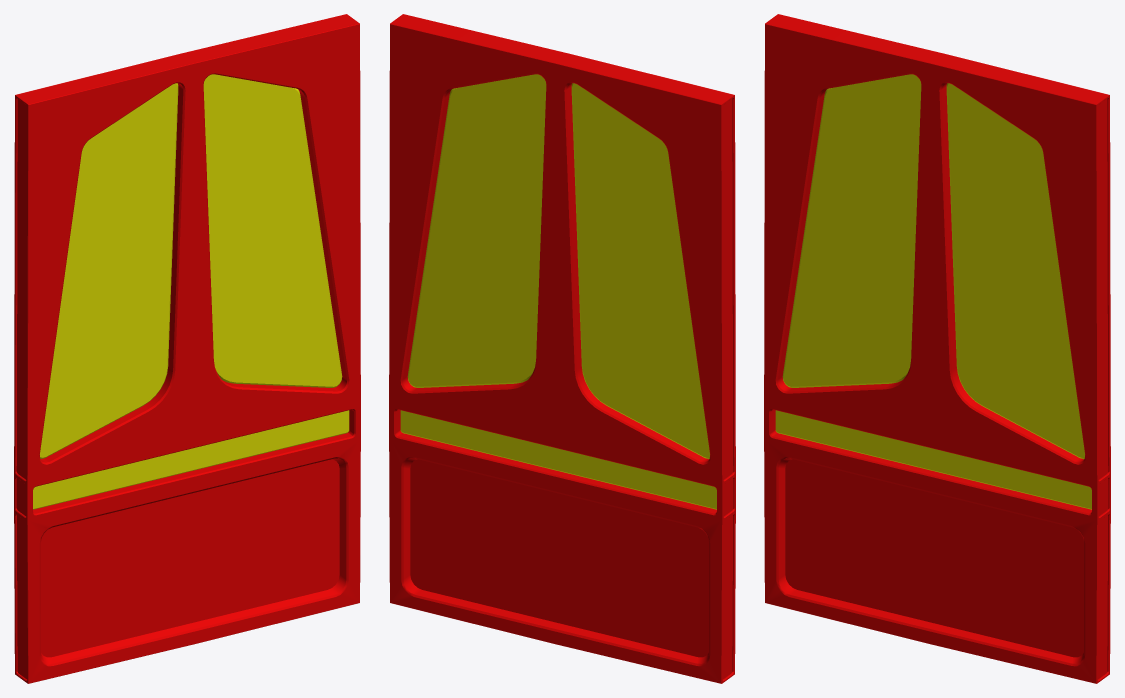
Rendered from Door_3.fbx.
The picture shows the model from 3 angles, left to right: view 1: azimuth 30°, elevation 25°; view 2: azimuth 150°, elevation 25°; view 3: azimuth 330°, elevation 25°; orthographic projection.
Visible parts, largest first — view 1: L10:polySurface2022; view 2: L10:polySurface2022; view 3: L10:polySurface2022.
Part boxes in pixels (x1,y1,x2,y2): L10:polySurface2022: [14, 14, 360, 683]; L10:polySurface2022: [389, 14, 735, 683]; L10:polySurface2022: [764, 14, 1110, 683].
Bounding box in the file's own units: 173 × 289 × 12.22.
